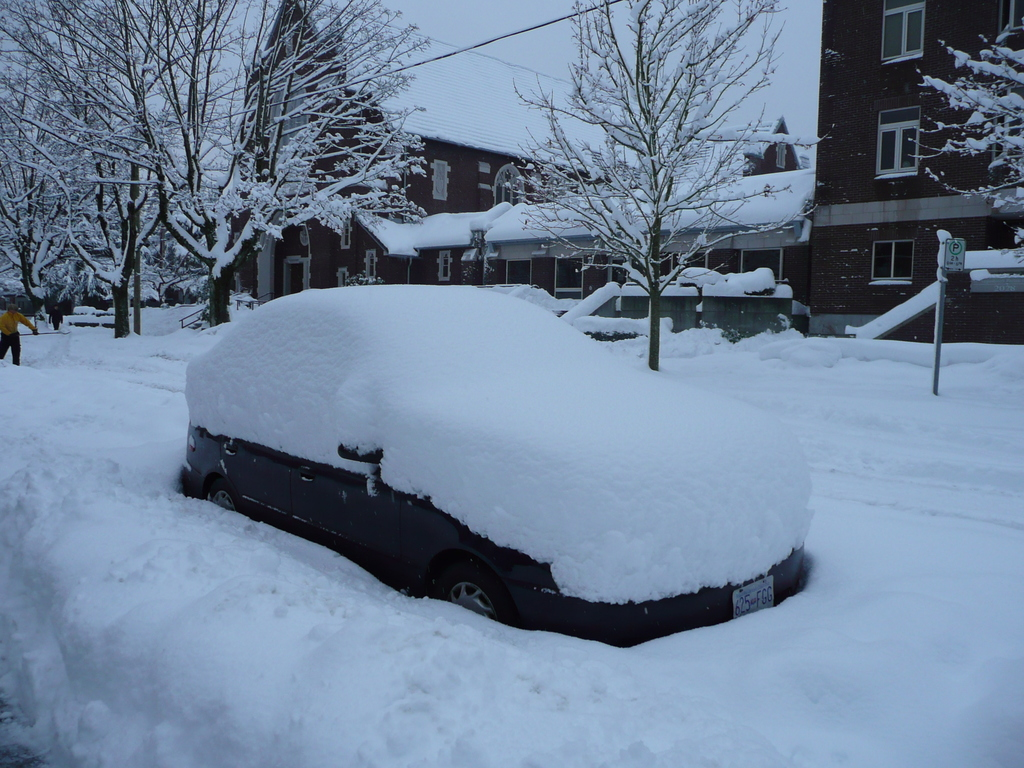Tree: (0, 0, 427, 336), (527, 19, 795, 367), (903, 10, 1023, 252)
